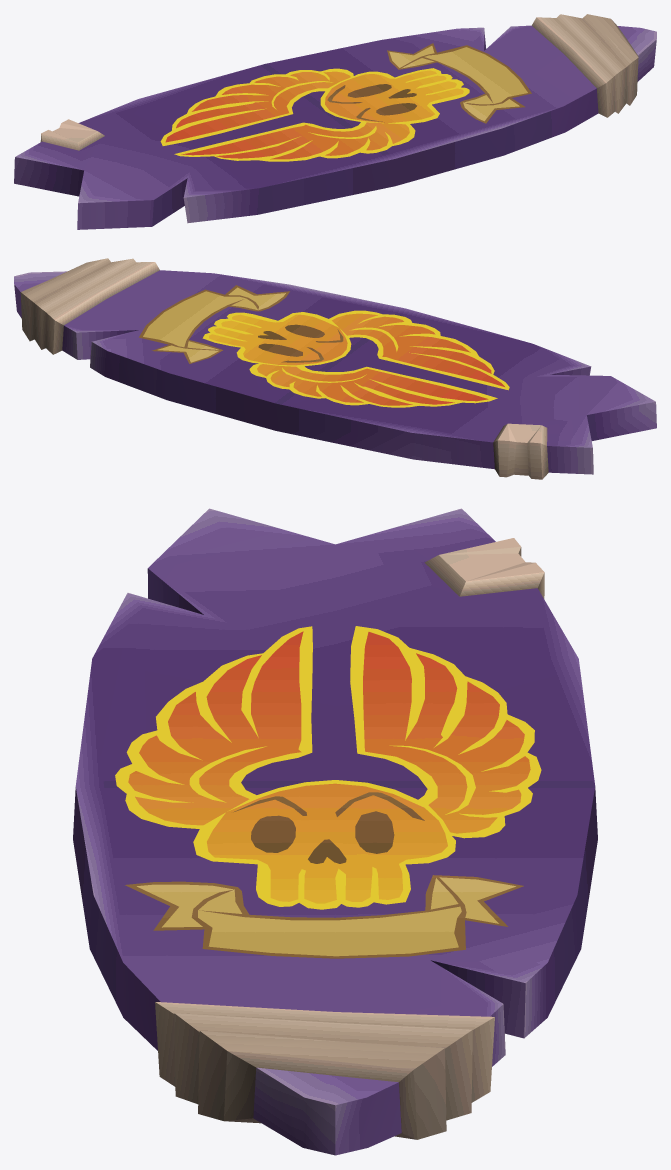
Rendered from veniceBeachBoard01.glb.
3 renders of one model, top to bottom at view 1: azimuth 30°, elevation 25°; view 2: azimuth 150°, elevation 25°; view 3: azimuth 270°, elevation 25°, orthographic. The views are drawn at different scales.
Visible parts, largest first — view 1: veniceBeachBoard01; view 2: veniceBeachBoard01; view 3: veniceBeachBoard01.
Boxes of the visible parts, <box> form: veniceBeachBoard01: <box>14,14,656,229</box>; veniceBeachBoard01: <box>14,258,656,479</box>; veniceBeachBoard01: <box>73,508,597,1155</box>.
Size of the model in its own units: 8.14 by 0.5392 by 3.03.
Materials: 1 (1 with a texture image).
